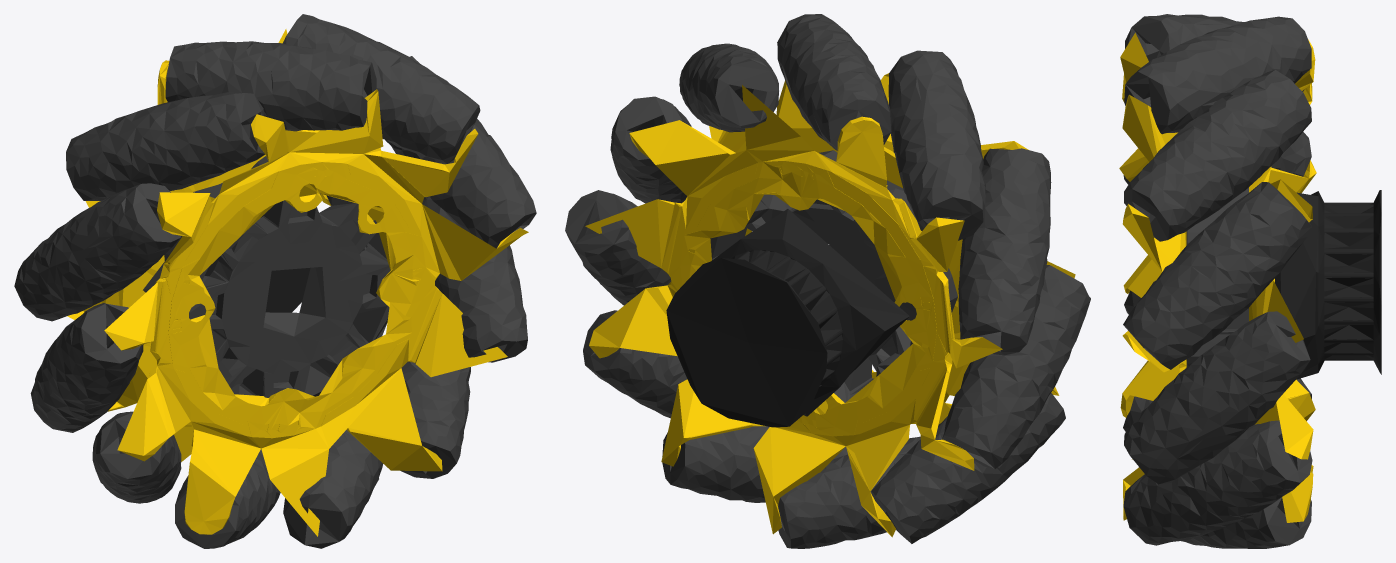
File: wheelBL.glb
The picture shows the model from 3 angles, left to right: view 1: azimuth 30°, elevation 25°; view 2: azimuth 150°, elevation 25°; view 3: azimuth 270°, elevation 25°; orthographic projection.
Parts seen in each view (by area): view 1: wheelBL_2, wheelBL_1, wheelBL_0; view 2: wheelBL_2, wheelBL_1, wheelBL_0; view 3: wheelBL_2, wheelBL_1, wheelBL_0.
Boxes of the visible parts, bbox=[...] form: wheelBL_2: bbox=[14, 14, 536, 548]; wheelBL_1: bbox=[67, 29, 528, 536]; wheelBL_0: bbox=[204, 215, 310, 312]; wheelBL_2: bbox=[565, 14, 1090, 548]; wheelBL_1: bbox=[585, 73, 1075, 537]; wheelBL_0: bbox=[666, 209, 909, 427]; wheelBL_2: bbox=[1123, 14, 1312, 548]; wheelBL_1: bbox=[1119, 32, 1316, 522]; wheelBL_0: bbox=[1275, 190, 1381, 379].
Bounding box in the file's own units: 4.08 × 4.09 × 2.
